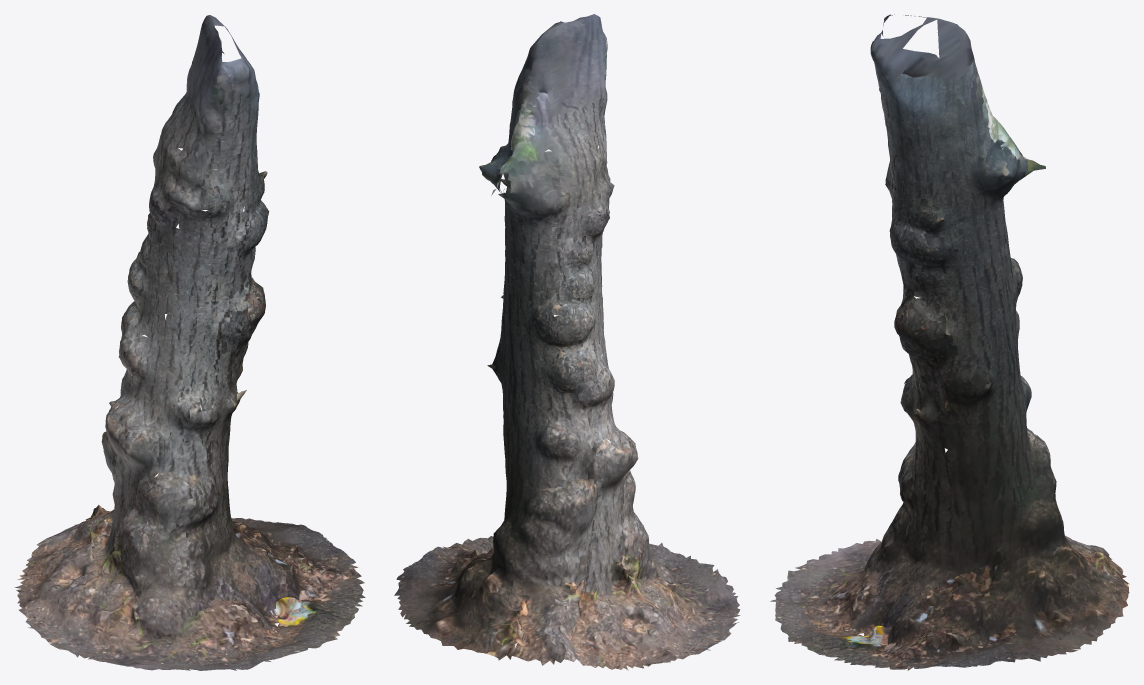
File: arbre_coin.glb
3 renders of one model, left to right at view 1: azimuth 30°, elevation 25°; view 2: azimuth 150°, elevation 25°; view 3: azimuth 270°, elevation 25°, orthographic. The views are drawn at different scales.
Parts seen in each view (by area): view 1: tronc; view 2: tronc; view 3: tronc.
Boxes of the visible parts, left/top/right/bottom form: tronc: left=14, top=15, right=365, bottom=670; tronc: left=394, top=14, right=740, bottom=670; tronc: left=770, top=14, right=1129, bottom=670.
Bounding box in the file's own units: 1.28 × 2.37 × 1.28.
1 material, 1 textured.
